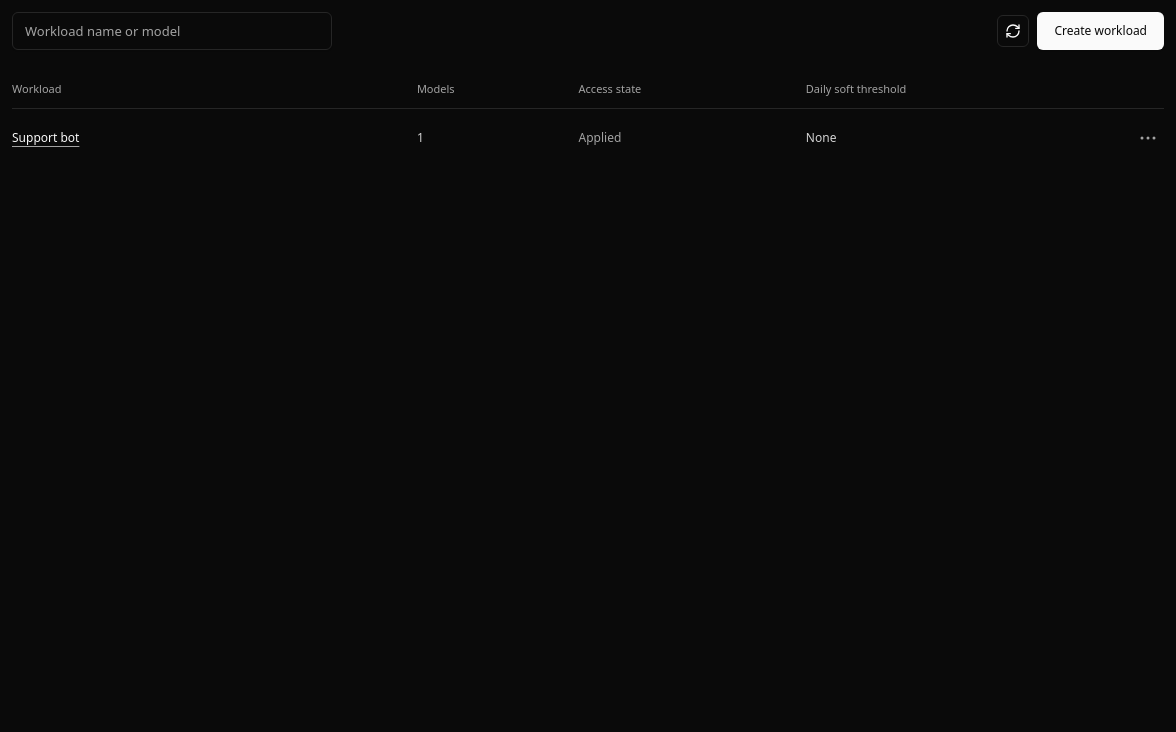
Scenario: Workload model access › starts with a searchable list and opens only the selected detail tab
This screenshot has width=1176, height=732.
Expected: the button with aria-label "Open Support bot" is shown, left=12, top=128, right=79, bottom=147
Expected: the tab "Overview" is not shown
In the field named "Search workloads": [172, 31] box left=12, top=12, right=332, bottom=50, type "missing"
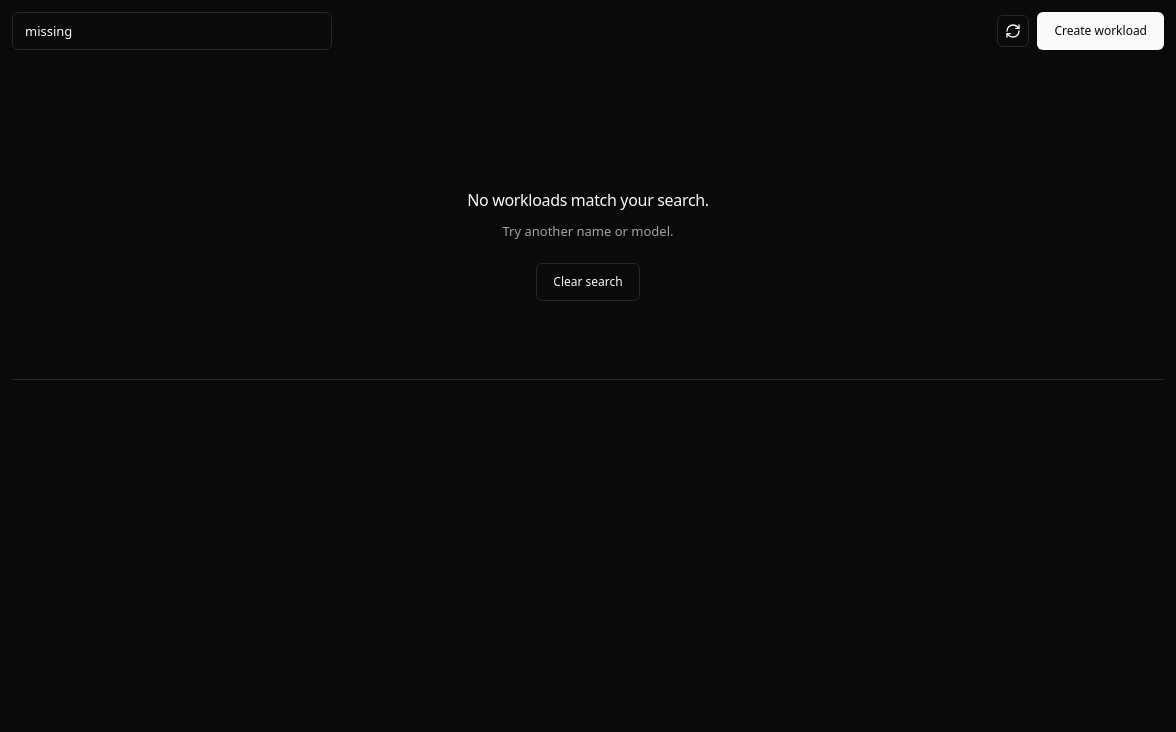
Result: the heading "No workloads match your search." is shown at left=467, top=188, right=709, bottom=212
Replace the text in the field named "Search workloads" with "support": [172, 31] box left=12, top=12, right=332, bottom=50
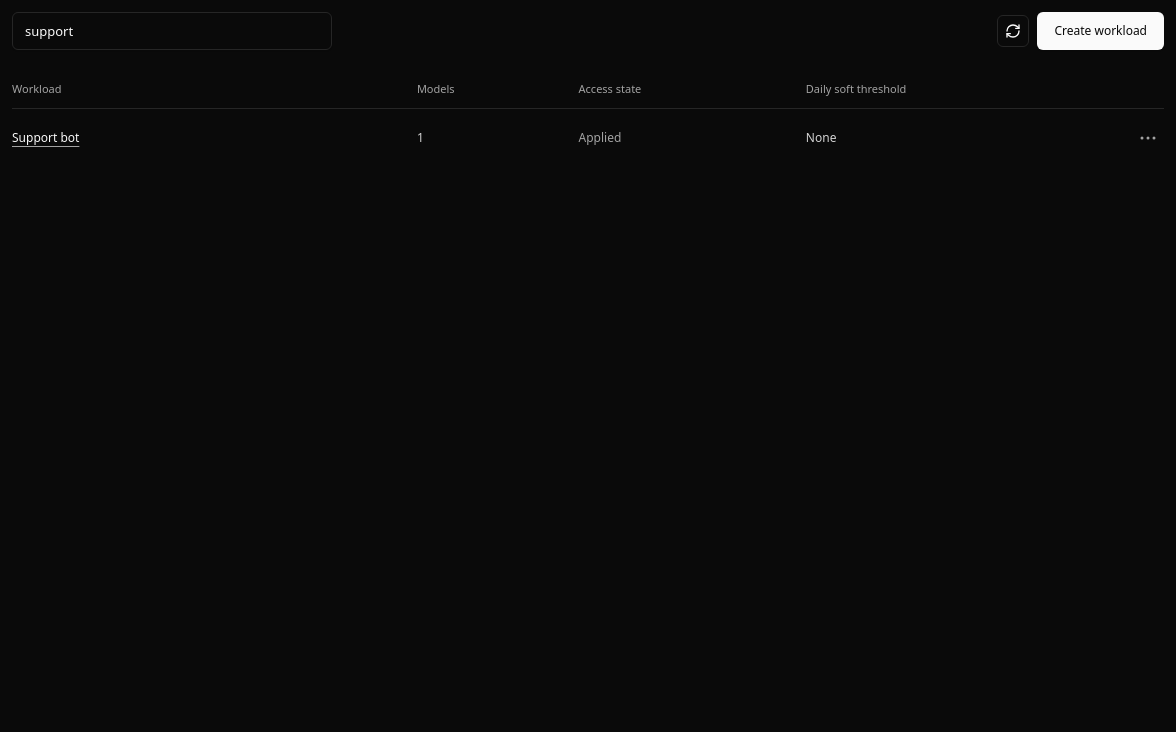
Click the button with aria-label "Open Support bot": [46, 138] box left=12, top=128, right=79, bottom=147
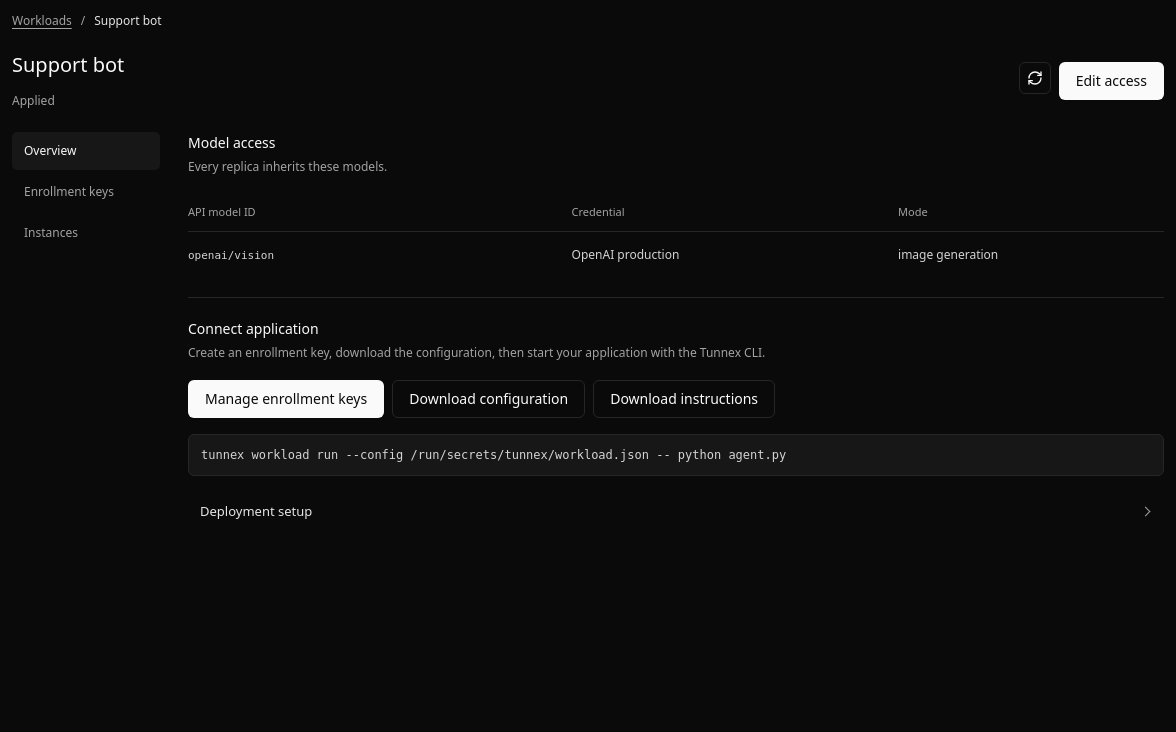
Expected: the button named "Refresh workload" is enabled, left=1019, top=62, right=1051, bottom=94
Result: the tab "Overview" is shown at left=12, top=132, right=160, bottom=170
Click the tab "Instances": [86, 233] box left=12, top=214, right=160, bottom=252
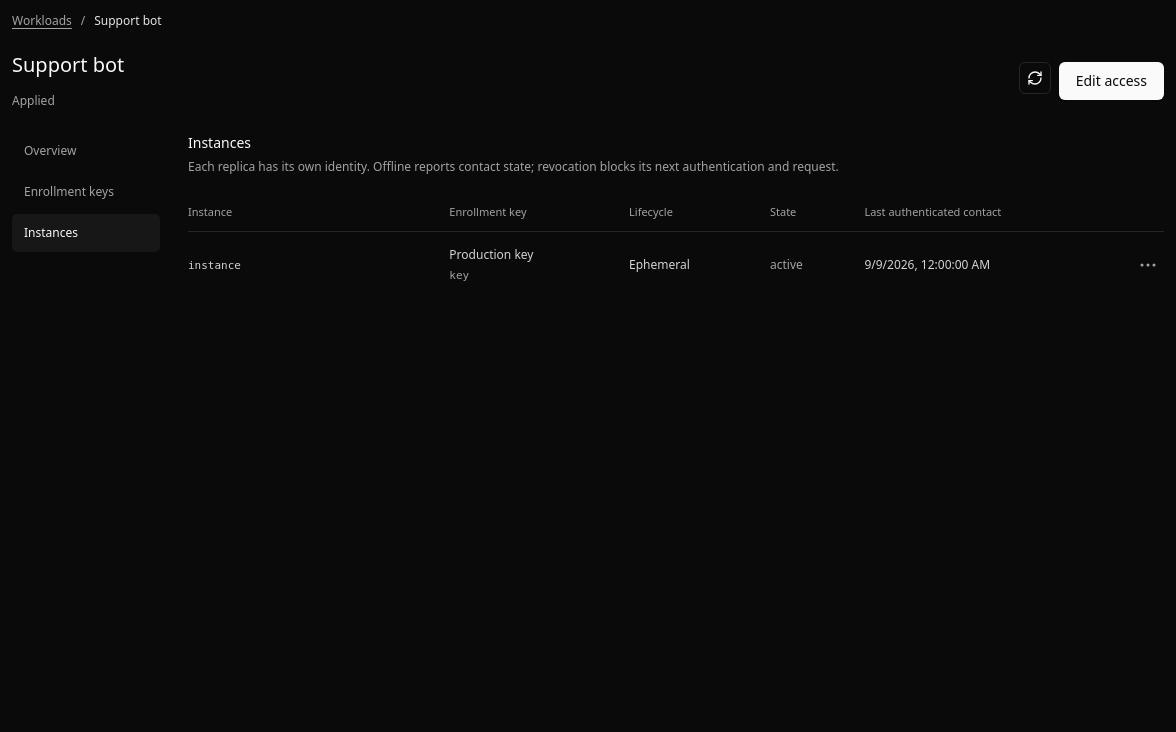
Result: the table named "Workload instances" is shown at left=188, top=193, right=1164, bottom=298
Result: the heading "Connect application" is gone
Click the button with aria-label "Back to workloads": [42, 21] box left=12, top=12, right=72, bottom=30
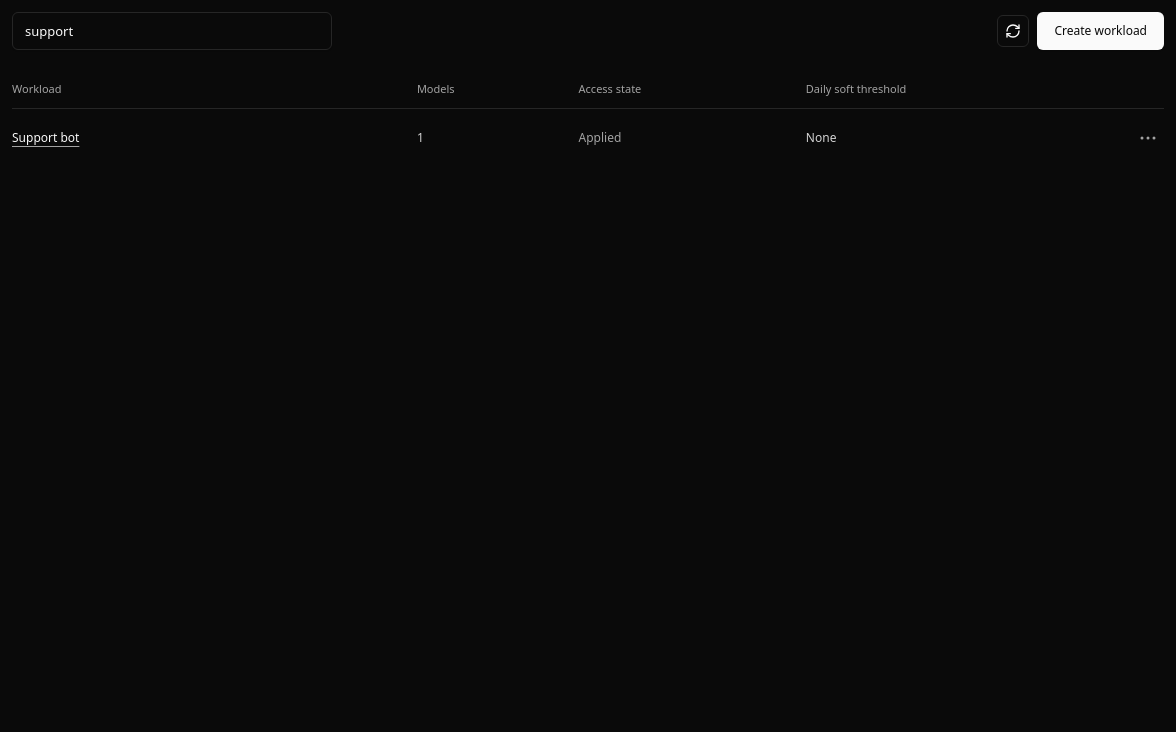
Result: the field named "Search workloads" holds "support" at left=12, top=12, right=332, bottom=50
